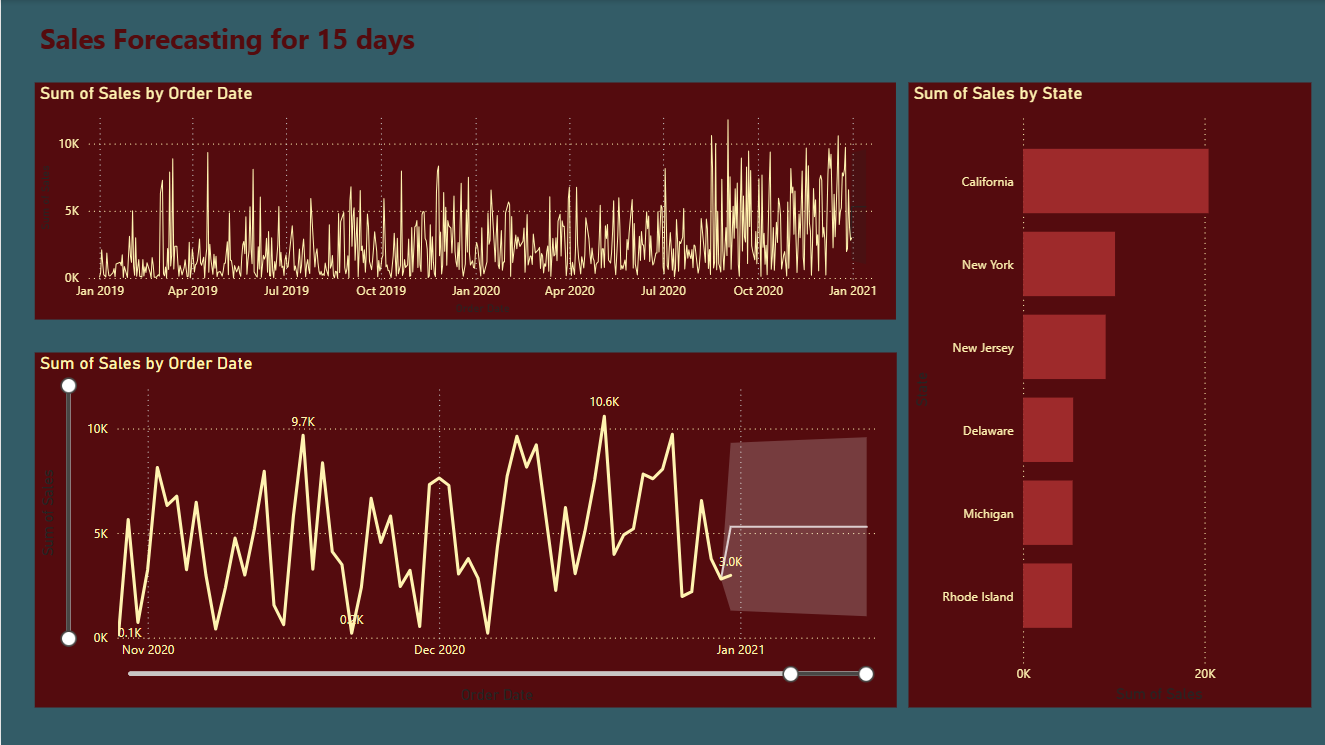

The dashboard page shown, as its layout file describes it:
{"tool":"powerbi","page":{"name":"Page 2","canvas":[1280,720],"ordinal":1},"visuals":[{"type":"lineChart","fields":{"Y":["Sum(SuperStore_Sales_Dataset.Sales)"],"Category":["SuperStore_Sales_Dataset.Order Date"]},"box":[33,79.5,831.5,228.7],"z":0},{"type":"lineChart","fields":{"Y":["Sum(SuperStore_Sales_Dataset.Sales)"],"Category":["SuperStore_Sales_Dataset.Order Date"]},"box":[33,339.9,831.5,342.4],"z":1000},{"type":"clusteredBarChart","fields":{"Category":["SuperStore_Sales_Dataset.State"],"Y":["Sum(SuperStore_Sales_Dataset.Sales)"]},"box":[875.9,79.6,388.5,603.2],"z":2000},{"type":"textbox","box":[32.6,13.3,429.5,53.1],"z":3000}]}

Visuals, with their boxes in screenshot pixels (x1, y1, x2, y2), scaled from the page's 1280x720 canvas onto the 1325x745 screenshot:
lineChart - Sum(SuperStore_Sales_Dataset.Sales) x SuperStore_Sales_Dataset.Order Date: <region>34, 82, 895, 319</region>
lineChart - Sum(SuperStore_Sales_Dataset.Sales) x SuperStore_Sales_Dataset.Order Date: <region>34, 352, 895, 706</region>
clusteredBarChart - SuperStore_Sales_Dataset.State x Sum(SuperStore_Sales_Dataset.Sales): <region>907, 82, 1309, 707</region>
textbox: <region>34, 14, 478, 69</region>
